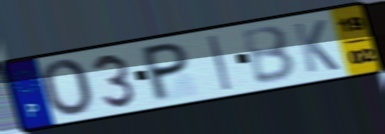3: (89, 50, 138, 111)
B: (238, 23, 300, 87)
I: (205, 33, 234, 93)
K: (290, 18, 342, 75)
O: (38, 58, 96, 119)
P: (141, 39, 190, 105)
